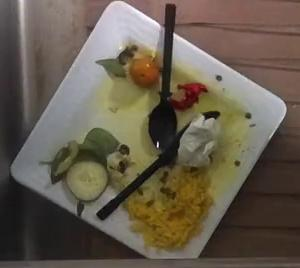rice: (125, 164, 210, 247)
vegetables: (40, 128, 134, 217), (96, 44, 159, 88)
